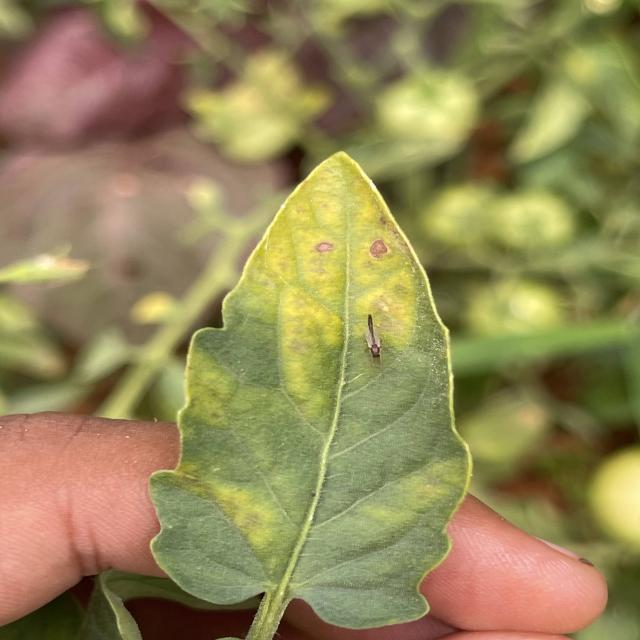tomato_early blight: (150, 153, 471, 640)
